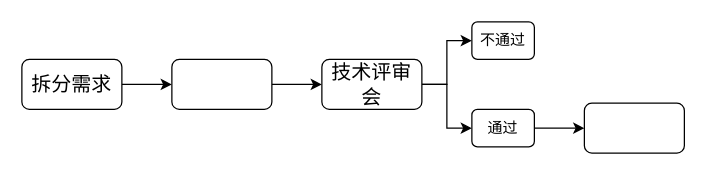
This 706x175 diagram has some shape labels left out. Each missing label, with the centre of its shape:
制定开发计划: pixel 221 83
按计划开发: pixel 633 127
